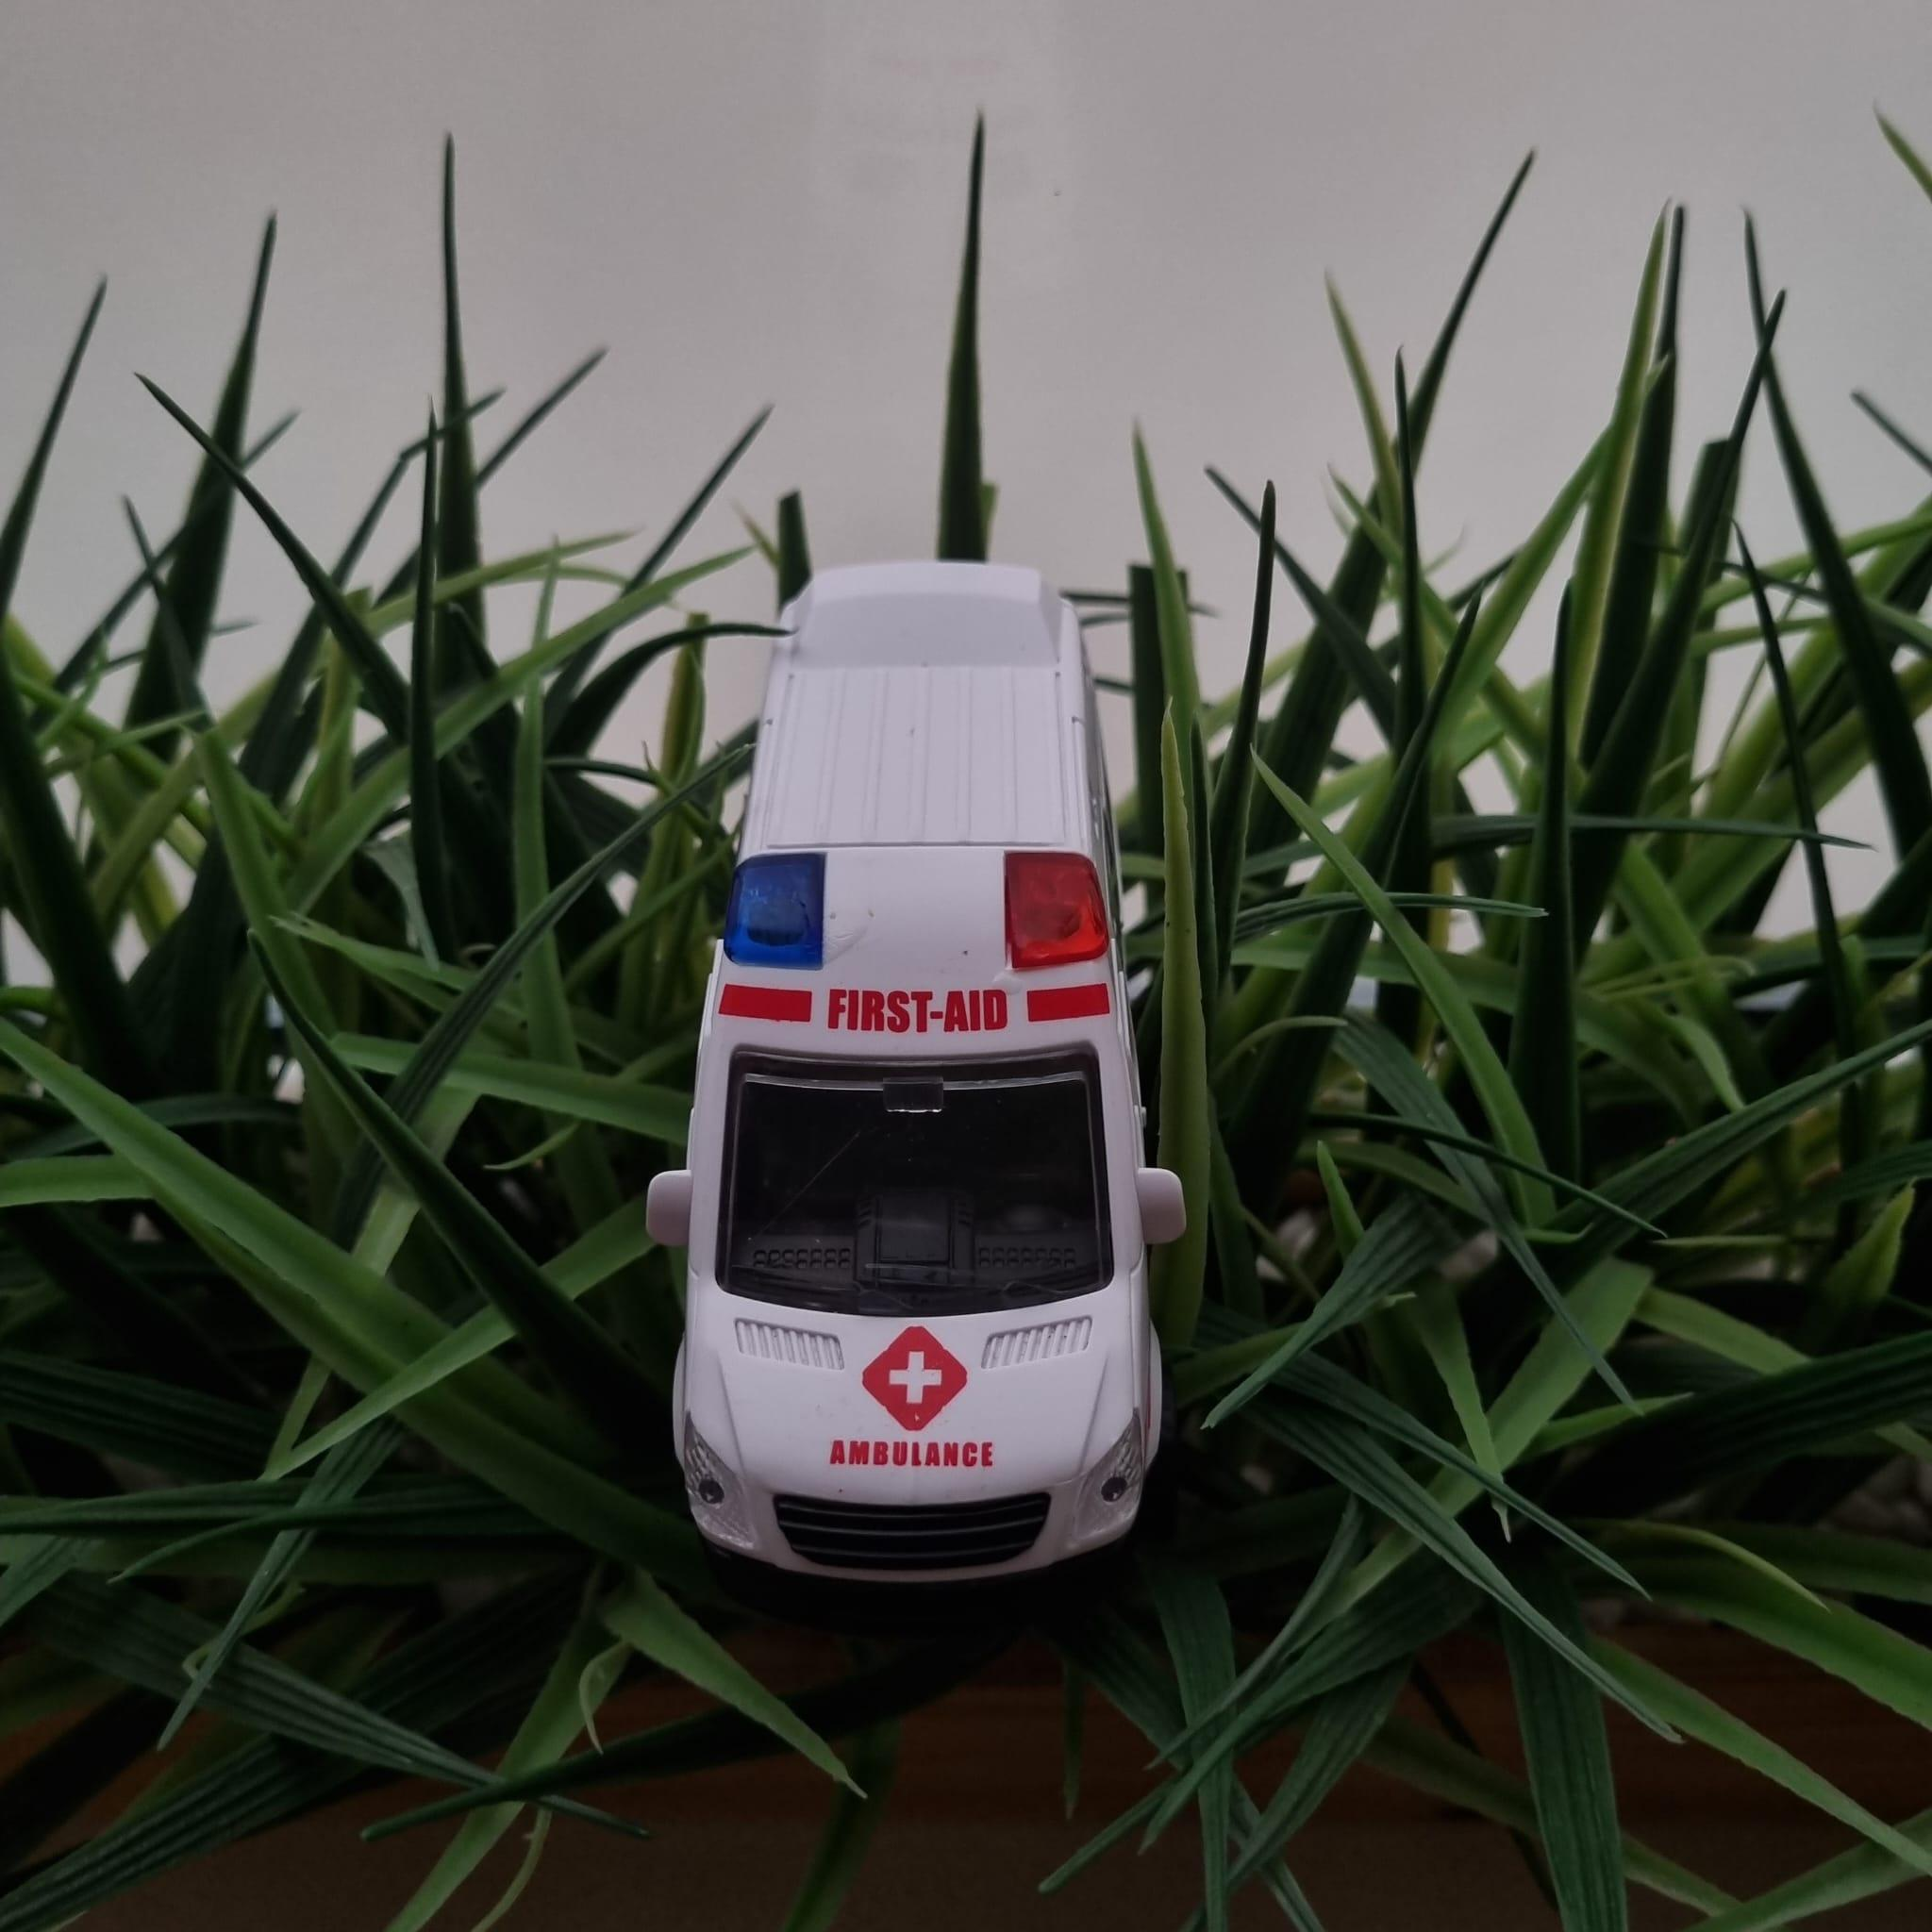ambulance_off: (642, 563, 1189, 1587)
